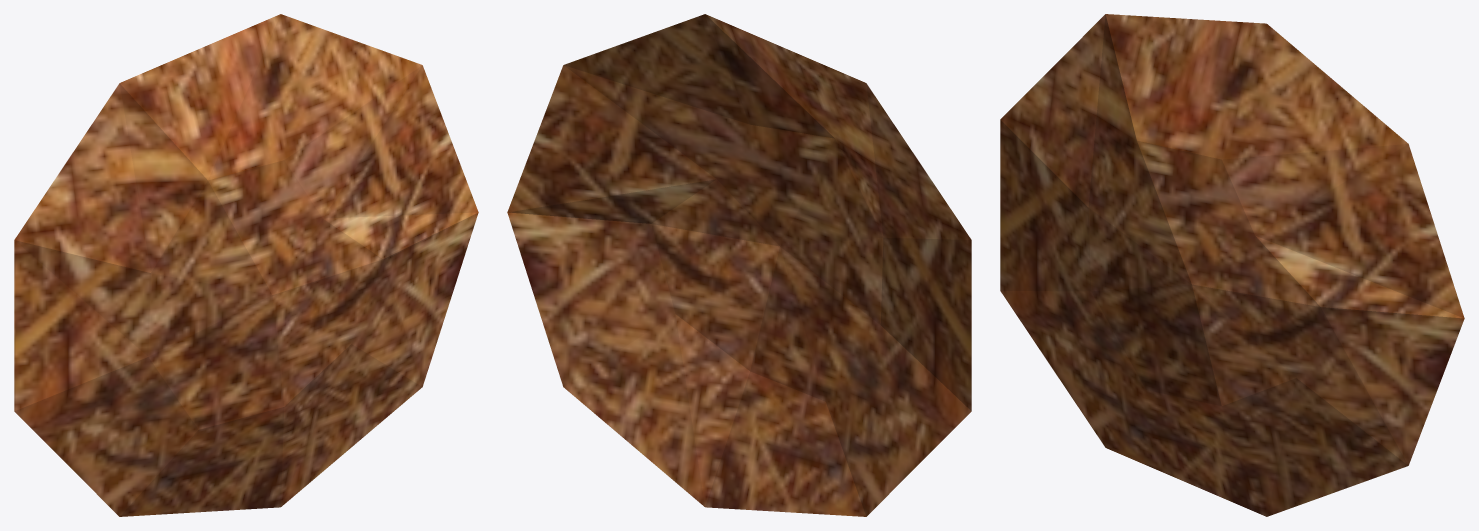
Rendered from mulch.obj.
3 renders of one model, left to right at view 1: azimuth 30°, elevation 25°; view 2: azimuth 150°, elevation 25°; view 3: azimuth 330°, elevation 25°, orthographic.
Visible parts, largest first — view 1: Cone01; view 2: Cone01; view 3: Cone01.
Part boxes in pixels (x1,y1,x2,y2): Cone01: (14,14,478,516); Cone01: (507,14,971,516); Cone01: (1000,14,1464,516).
Size of the model in its own units: 3.54 by 3.6 by 0.4398.
1 material, 1 textured.
